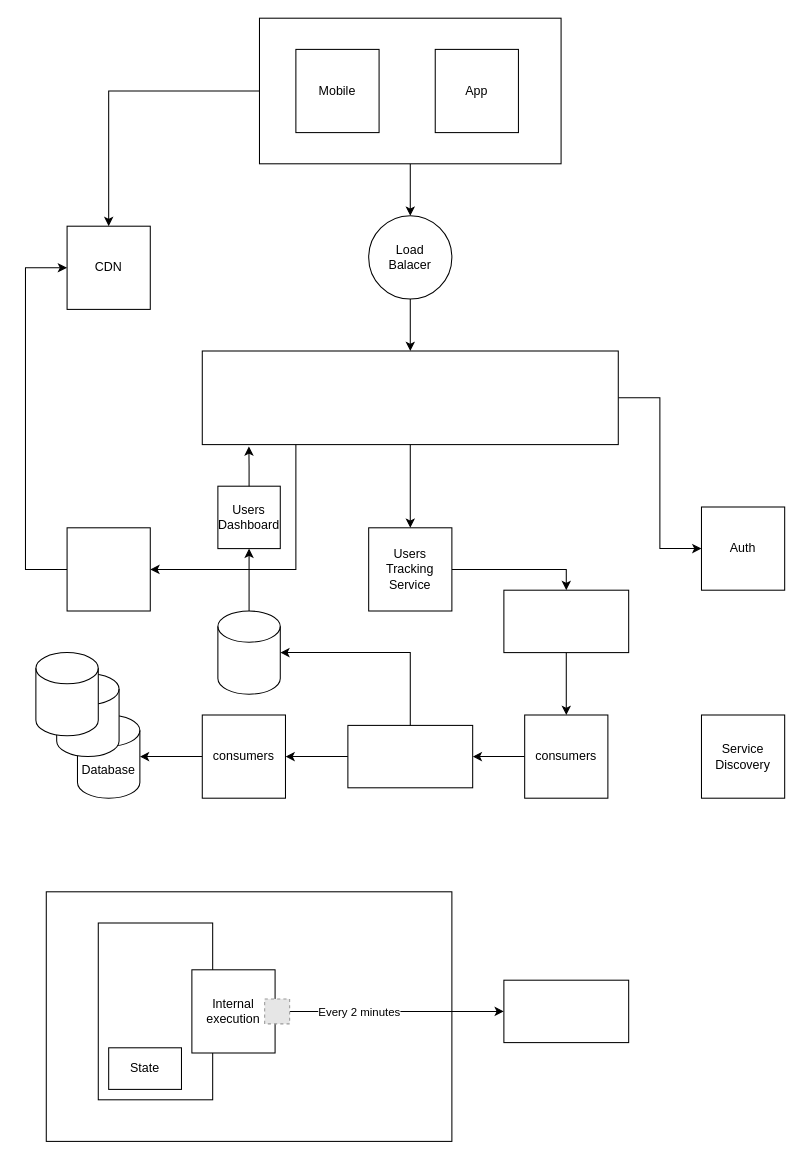
Some shapes in this 803 by 1160 pixel diagram are drawn without their labels. Grey dashed boxes stand in for pictures. The shapes that lost their labels are listed below. From the top down, each one's box as (x1, y1, x2, y2) in pixels, then its label:
(201, 350, 618, 445): API Gateway
(66, 527, 150, 611): Audio Service
(503, 589, 629, 653): Kafka Topic
(217, 610, 280, 694): Elastic / S3
(347, 724, 473, 788): compaction topic
(97, 922, 213, 1100): Device
(503, 979, 629, 1043): Pocket FM server
